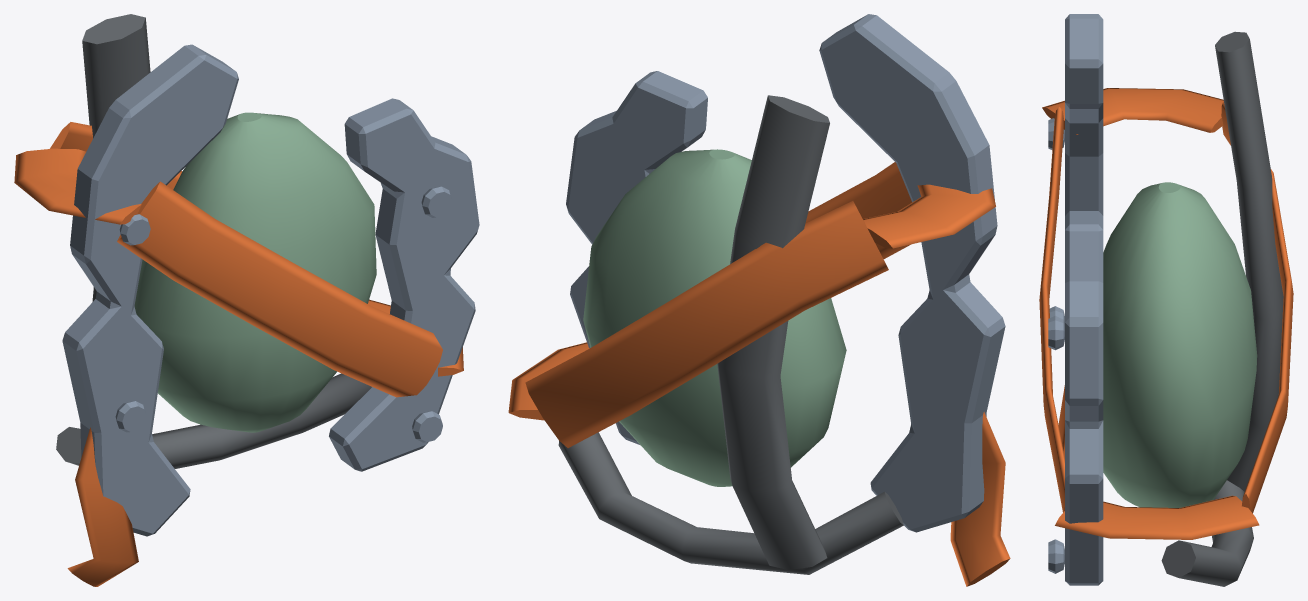
File: hybrid_salvage_sdf.obj
3 renders of one model, left to right at view 1: azimuth 30°, elevation 25°; view 2: azimuth 150°, elevation 25°; view 3: azimuth 270°, elevation 25°, orthographic. The views are drawn at different scales.
Parts seen in each view (by area): view 1: CORE_OrganicVolume.001_hybrid_salvage_sdf_core, FABRICATED_left.001_hybrid_salvage_sdf_outer, FABRICATED_right.001_hybrid_salvage_sdf_outer, BINDING_FrontDiagonal.001_hybrid_salvage_sdf_binding, BASE_Cradle.001_hybrid_salvage_sdf_spine, BACK_SupportSpine.001_hybrid_salvage_sdf_spine, BINDING_FoldedTail.001_hybrid_salvage_sdf_binding, BINDING_LeftReturn.001_hybrid_salvage_sdf_binding, BINDING_BackDiagonal.001_hybrid_salvage_sdf_binding, FASTENER_3.001_hybrid_salvage_sdf_outer, FASTENER_2.001_hybrid_salvage_sdf_outer, FASTENER_1.001_hybrid_salvage_sdf_outer (+1 smaller); view 2: FABRICATED_left.001_hybrid_salvage_sdf_outer, CORE_OrganicVolume.001_hybrid_salvage_sdf_core, BINDING_BackDiagonal.001_hybrid_salvage_sdf_binding, BACK_SupportSpine.001_hybrid_salvage_sdf_spine, FABRICATED_right.001_hybrid_salvage_sdf_outer, BASE_Cradle.001_hybrid_salvage_sdf_spine, BINDING_FoldedTail.001_hybrid_salvage_sdf_binding, BINDING_LeftReturn.001_hybrid_salvage_sdf_binding, BINDING_FrontDiagonal.001_hybrid_salvage_sdf_binding, BINDING_RightReturn.001_hybrid_salvage_sdf_binding; view 3: CORE_OrganicVolume.001_hybrid_salvage_sdf_core, FABRICATED_right.001_hybrid_salvage_sdf_outer, BACK_SupportSpine.001_hybrid_salvage_sdf_spine, FABRICATED_left.001_hybrid_salvage_sdf_outer, BINDING_RightReturn.001_hybrid_salvage_sdf_binding, BINDING_LeftReturn.001_hybrid_salvage_sdf_binding, BINDING_BackDiagonal.001_hybrid_salvage_sdf_binding, BINDING_FrontDiagonal.001_hybrid_salvage_sdf_binding, BASE_Cradle.001_hybrid_salvage_sdf_spine, FASTENER_2.001_hybrid_salvage_sdf_outer, FASTENER_3.001_hybrid_salvage_sdf_outer.
Part boxes in pixels (left/top/right/bottom): CORE_OrganicVolume.001_hybrid_salvage_sdf_core: left=134, top=112, right=376, bottom=432; FABRICATED_left.001_hybrid_salvage_sdf_outer: left=62, top=44, right=238, bottom=536; FABRICATED_right.001_hybrid_salvage_sdf_outer: left=329, top=98, right=479, bottom=471; BINDING_FrontDiagonal.001_hybrid_salvage_sdf_binding: left=117, top=181, right=442, bottom=397; BASE_Cradle.001_hybrid_salvage_sdf_spine: left=56, top=373, right=371, bottom=468; BACK_SupportSpine.001_hybrid_salvage_sdf_spine: left=82, top=14, right=150, bottom=301; BINDING_FoldedTail.001_hybrid_salvage_sdf_binding: left=67, top=427, right=138, bottom=586; BINDING_LeftReturn.001_hybrid_salvage_sdf_binding: left=14, top=148, right=141, bottom=224; BINDING_BackDiagonal.001_hybrid_salvage_sdf_binding: left=50, top=122, right=182, bottom=189; FASTENER_3.001_hybrid_salvage_sdf_outer: left=412, top=411, right=442, bottom=442; FASTENER_2.001_hybrid_salvage_sdf_outer: left=421, top=186, right=452, bottom=217; FASTENER_1.001_hybrid_salvage_sdf_outer: left=115, top=401, right=146, bottom=432; FABRICATED_left.001_hybrid_salvage_sdf_outer: left=819, top=14, right=1005, bottom=532; CORE_OrganicVolume.001_hybrid_salvage_sdf_core: left=583, top=149, right=846, bottom=486; BINDING_BackDiagonal.001_hybrid_salvage_sdf_binding: left=525, top=201, right=888, bottom=447; BACK_SupportSpine.001_hybrid_salvage_sdf_spine: left=717, top=95, right=829, bottom=569; FABRICATED_right.001_hybrid_salvage_sdf_outer: left=566, top=71, right=707, bottom=444; BASE_Cradle.001_hybrid_salvage_sdf_spine: left=558, top=432, right=903, bottom=574; BINDING_FoldedTail.001_hybrid_salvage_sdf_binding: left=950, top=412, right=1010, bottom=586; BINDING_LeftReturn.001_hybrid_salvage_sdf_binding: left=863, top=184, right=995, bottom=248; BINDING_FrontDiagonal.001_hybrid_salvage_sdf_binding: left=805, top=162, right=911, bottom=259; BINDING_RightReturn.001_hybrid_salvage_sdf_binding: left=508, top=342, right=589, bottom=420; CORE_OrganicVolume.001_hybrid_salvage_sdf_core: left=1103, top=182, right=1257, bottom=507; FABRICATED_right.001_hybrid_salvage_sdf_outer: left=1065, top=211, right=1103, bottom=585; BACK_SupportSpine.001_hybrid_salvage_sdf_spine: left=1215, top=31, right=1283, bottom=491; FABRICATED_left.001_hybrid_salvage_sdf_outer: left=1065, top=14, right=1103, bottom=215; BINDING_RightReturn.001_hybrid_salvage_sdf_binding: left=1055, top=495, right=1259, bottom=539; BINDING_LeftReturn.001_hybrid_salvage_sdf_binding: left=1042, top=88, right=1223, bottom=134; BINDING_BackDiagonal.001_hybrid_salvage_sdf_binding: left=1221, top=101, right=1293, bottom=513; BINDING_FrontDiagonal.001_hybrid_salvage_sdf_binding: left=1039, top=107, right=1064, bottom=512; BASE_Cradle.001_hybrid_salvage_sdf_spine: left=1161, top=480, right=1253, bottom=586; FASTENER_2.001_hybrid_salvage_sdf_outer: left=1048, top=315, right=1064, bottom=350; FASTENER_3.001_hybrid_salvage_sdf_outer: left=1048, top=539, right=1064, bottom=573.
Size of the model in its own units: 3.06 by 3.6 by 1.57.
